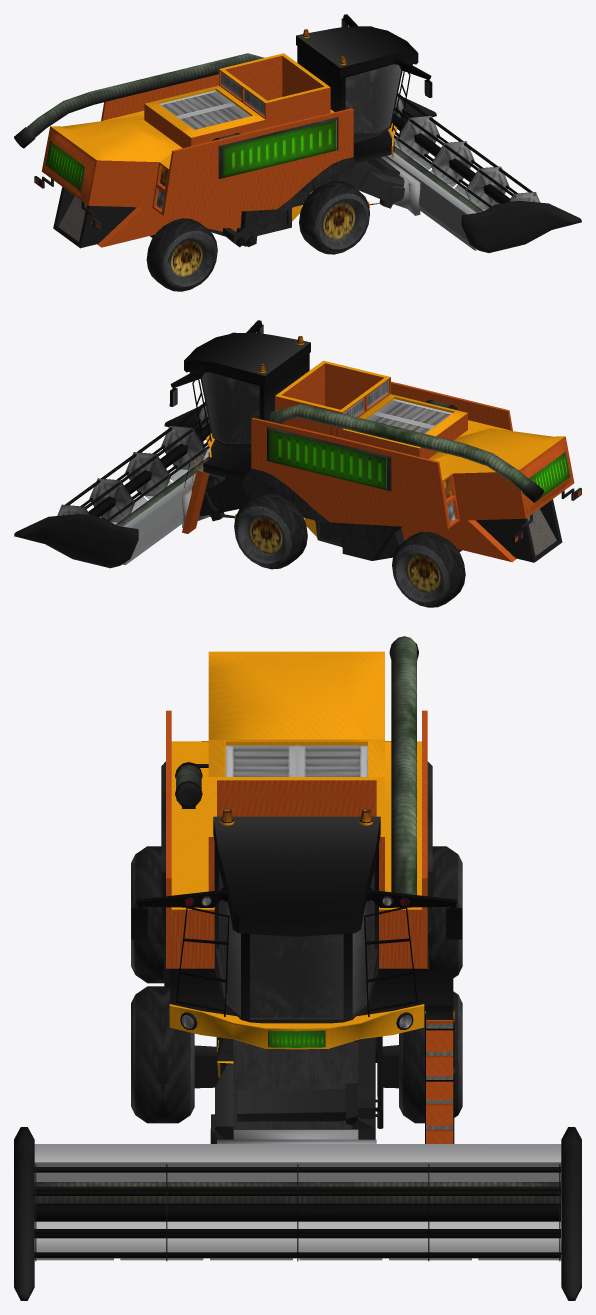
File: ceifa-tudo.glb
3 views of the same model, one above another, from view 1: azimuth 30°, elevation 25°; view 2: azimuth 150°, elevation 25°; view 3: azimuth 270°, elevation 25° (orthographic). The views are drawn at different scales.
Visible parts, largest first — view 1: body, bumper_front, hood, wheel_fr_tire, wheel_rr_tire, wheel_fr_rim, wheel_rr_rim; view 2: body, bumper_front, hood, wheel_rl_tire, wheel_fl_tire, wheel_fl_rim, wheel_rl_rim; view 3: body, bumper_front, hood, wheel_fr_tire, wheel_rr_tire, wheel_fl_tire, wheel_rl_tire.
Boxes of the visible parts, x1=… form: body: x1=14, y1=14, x2=432, y2=248; bumper_front: x1=381, y1=99, x2=581, y2=252; hood: x1=392, y1=93, x2=540, y2=209; wheel_fr_tire: x1=299, y1=181, x2=369, y2=254; wheel_rr_tire: x1=146, y1=218, x2=217, y2=291; wheel_fr_rim: x1=321, y1=202, x2=356, y2=239; wheel_rr_rim: x1=169, y1=239, x2=203, y2=276; body: x1=169, y1=320, x2=581, y2=562; bumper_front: x1=14, y1=408, x2=209, y2=568; hood: x1=57, y1=401, x2=211, y2=522; wheel_rl_tire: x1=392, y1=531, x2=465, y2=607; wheel_fl_tire: x1=234, y1=493, x2=307, y2=569; wheel_fl_rim: x1=248, y1=515, x2=284, y2=553; wheel_rl_rim: x1=406, y1=554, x2=442, y2=592; body: x1=131, y1=636, x2=462, y2=1143; bumper_front: x1=14, y1=1127, x2=581, y2=1300; hood: x1=33, y1=1164, x2=560, y2=1261; wheel_fr_tire: x1=131, y1=986, x2=194, y2=1123; wheel_rr_tire: x1=131, y1=846, x2=165, y2=983; wheel_fl_tire: x1=399, y1=991, x2=462, y2=1123; wheel_rl_tire: x1=427, y1=846, x2=462, y2=977.
Bounding box in the file's own units: 10.05 × 3.68 × 5.64.
Materials: 3 (3 with a texture image).
